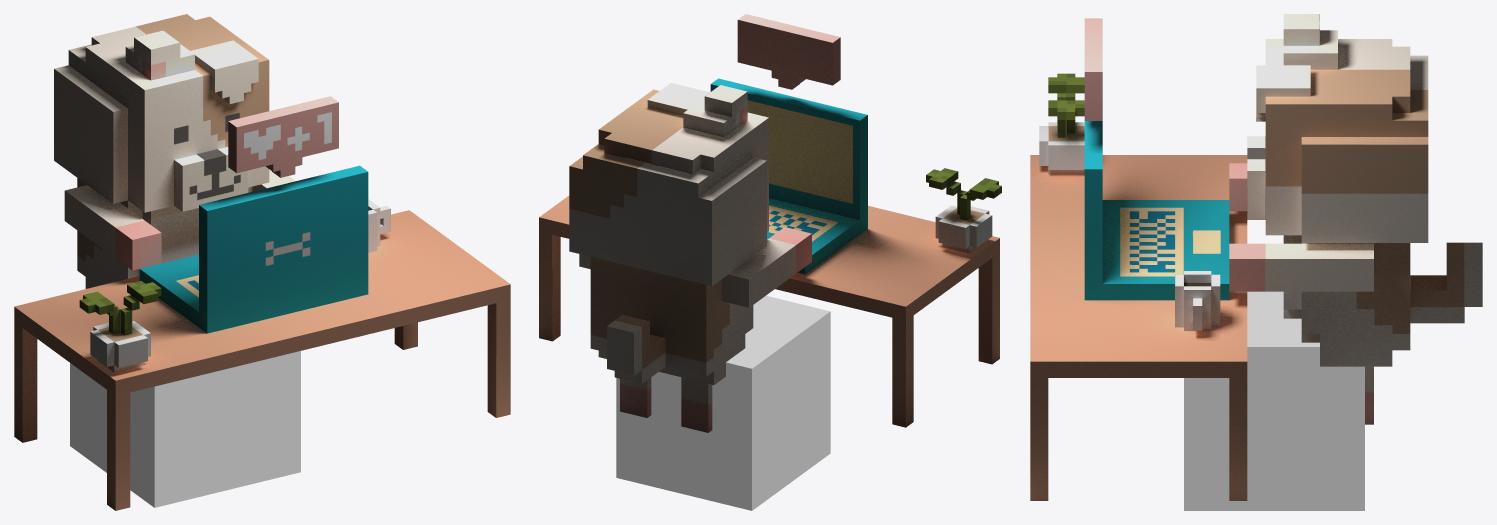
File: newgltf.gltf
The picture shows the model from 3 angles, left to right: view 1: azimuth 30°, elevation 25°; view 2: azimuth 150°, elevation 25°; view 3: azimuth 270°, elevation 25°; orthographic projection. The views are drawn at different scales.
Visible parts, largest first — view 1: main, Cube; view 2: main, Cube; view 3: main, Cube.
Boxes of the visible parts, bbox=[...] form: main: bbox=[14, 14, 510, 510]; Cube: bbox=[70, 351, 300, 507]; main: bbox=[539, 14, 1001, 432]; Cube: bbox=[616, 295, 830, 510]; main: bbox=[1030, 14, 1482, 500]; Cube: bbox=[1184, 291, 1364, 510].
Size of what is drawn, in the model's own units: 5.6 by 5.4 by 5.
2 materials, 1 textured.
